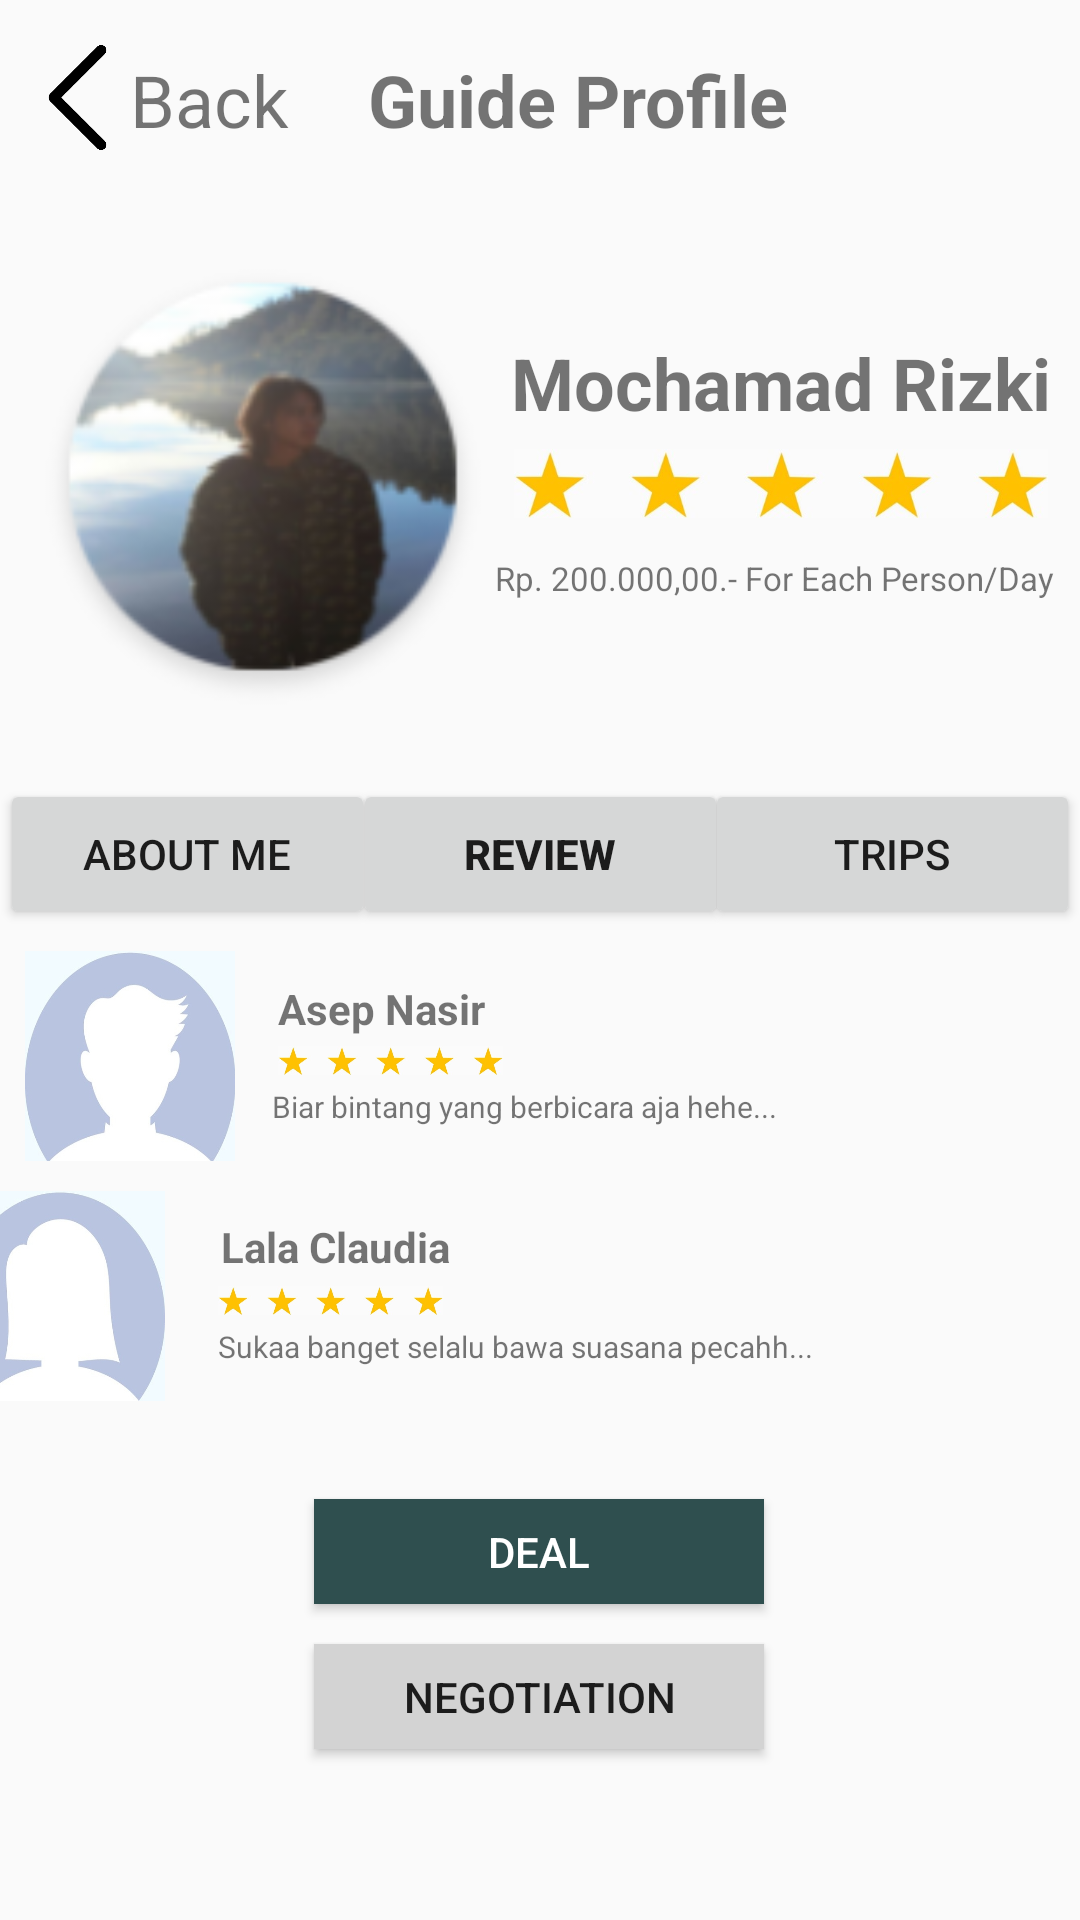

Named icons in this screenshot (1080px×1920px) and their bounding boxes, (left=x1, top=y1, right=x2, bottom=y2):
man: (left=25, top=953, right=235, bottom=1161)
